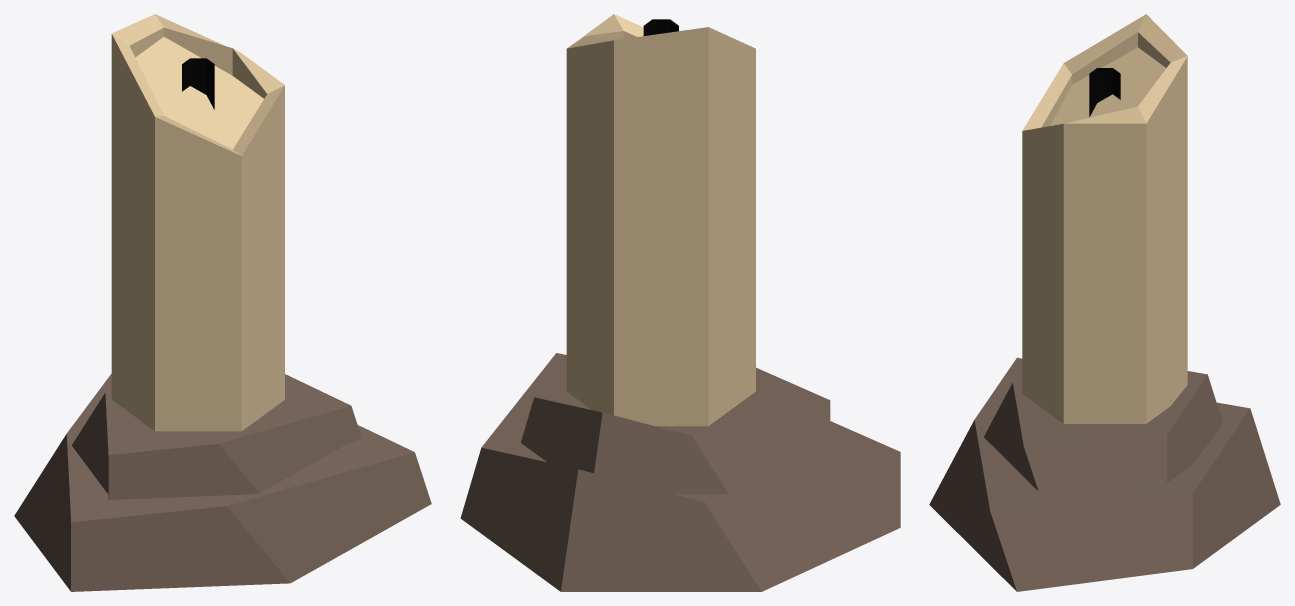
Rendered from Candle.fbx.
3 views of the same model, side by side, from view 1: azimuth 30°, elevation 25°; view 2: azimuth 150°, elevation 25°; view 3: azimuth 270°, elevation 25° (orthographic). The views are drawn at different scales.
Visible parts, largest first — view 1: BotCandle2, TopCandle, DeletableCandle; view 2: BotCandle2, TopCandle, DeletableCandle; view 3: BotCandle2, TopCandle, DeletableCandle.
Part boxes in pixels (<box>): BotCandle2: <box>14,374,431,591</box>; TopCandle: <box>111,14,284,273</box>; DeletableCandle: <box>111,242,284,431</box>; BotCandle2: <box>460,353,900,591</box>; TopCandle: <box>566,14,755,254</box>; DeletableCandle: <box>566,220,755,426</box>; BotCandle2: <box>929,357,1280,591</box>; TopCandle: <box>1022,14,1187,273</box>; DeletableCandle: <box>1022,244,1187,423</box>.
Bounding box in the file's own units: 480 × 614 × 425.
